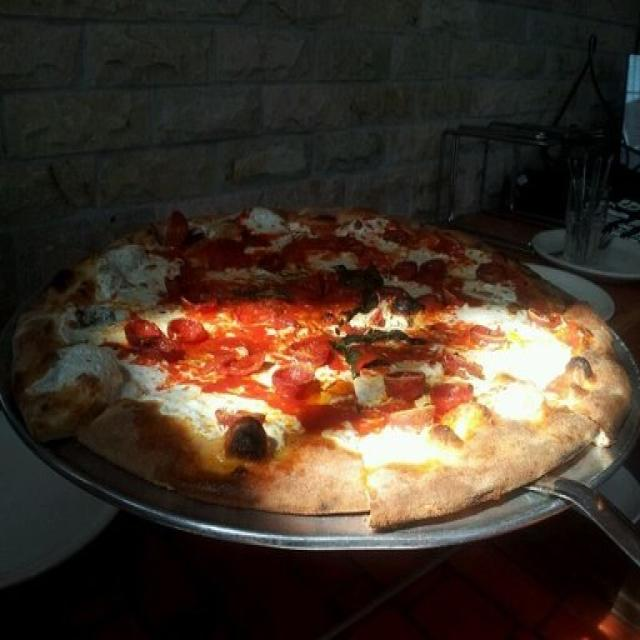Basil: (338, 328, 427, 376)
Pepperoni: (228, 293, 280, 328), (433, 381, 480, 417), (216, 328, 268, 360), (299, 332, 336, 372), (384, 366, 426, 399), (126, 317, 166, 350), (468, 322, 504, 354), (185, 291, 222, 320), (166, 316, 205, 342), (275, 360, 314, 386), (220, 356, 270, 376), (432, 322, 474, 344), (334, 232, 368, 259), (289, 272, 328, 295), (163, 217, 188, 247), (205, 236, 242, 253), (473, 263, 503, 283), (422, 258, 444, 280), (256, 255, 284, 271), (395, 261, 417, 281), (166, 275, 182, 301)
Pizza: (11, 210, 631, 528)
